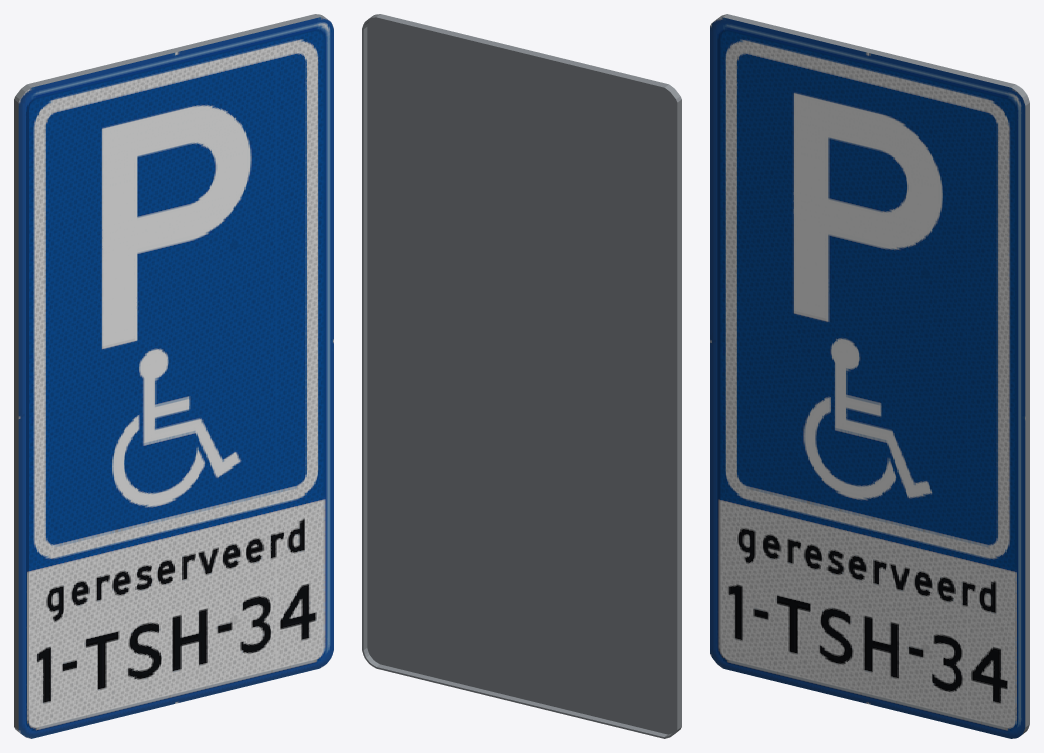
The picture shows the model from 3 angles, left to right: view 1: azimuth 30°, elevation 25°; view 2: azimuth 150°, elevation 25°; view 3: azimuth 330°, elevation 25°; orthographic projection.
Parts seen in each view (by area): view 1: cat_65acf59d2b8c082a; view 2: cat_65acf59d2b8c082a; view 3: cat_65acf59d2b8c082a.
Part boxes in pixels (x1,y1,x2,y2): cat_65acf59d2b8c082a: [14, 14, 333, 738]; cat_65acf59d2b8c082a: [362, 14, 681, 738]; cat_65acf59d2b8c082a: [710, 14, 1029, 738].
Size of the model in its own units: 0.6 by 0.015 by 1.18.
Materials: 2 (1 with a texture image).
